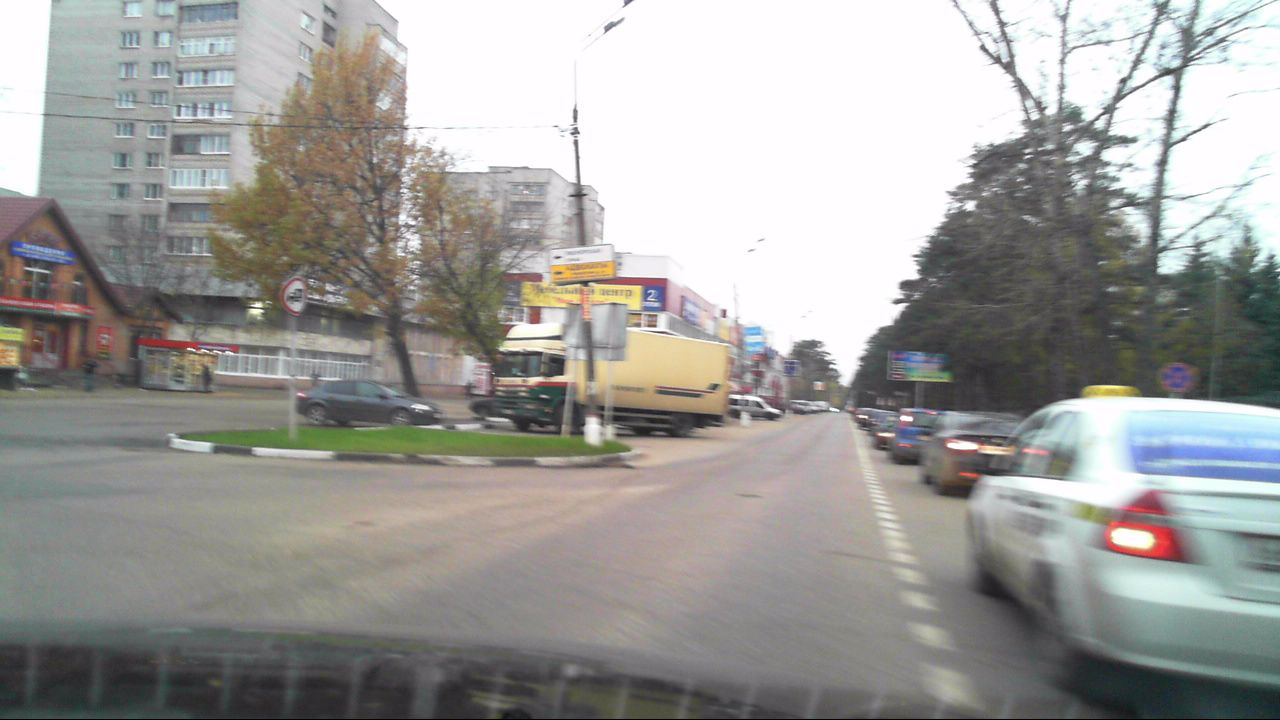No Parking: (1158, 362, 1196, 397)
